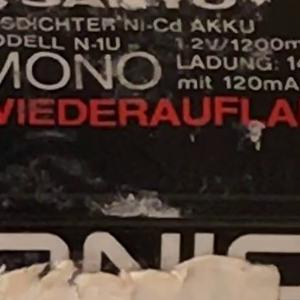NI-CD: (108, 10, 191, 34)
